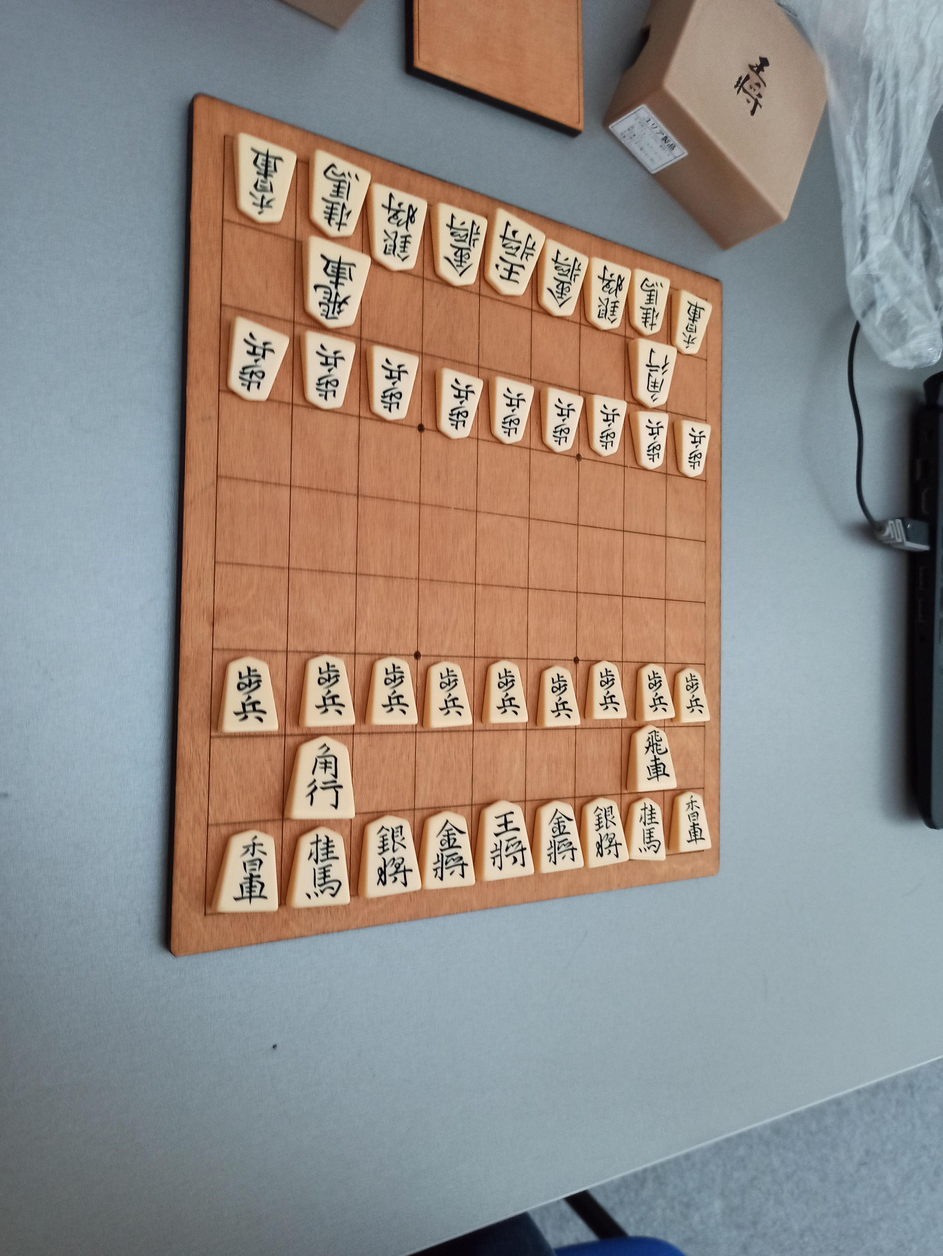board: (206, 134, 707, 917)
